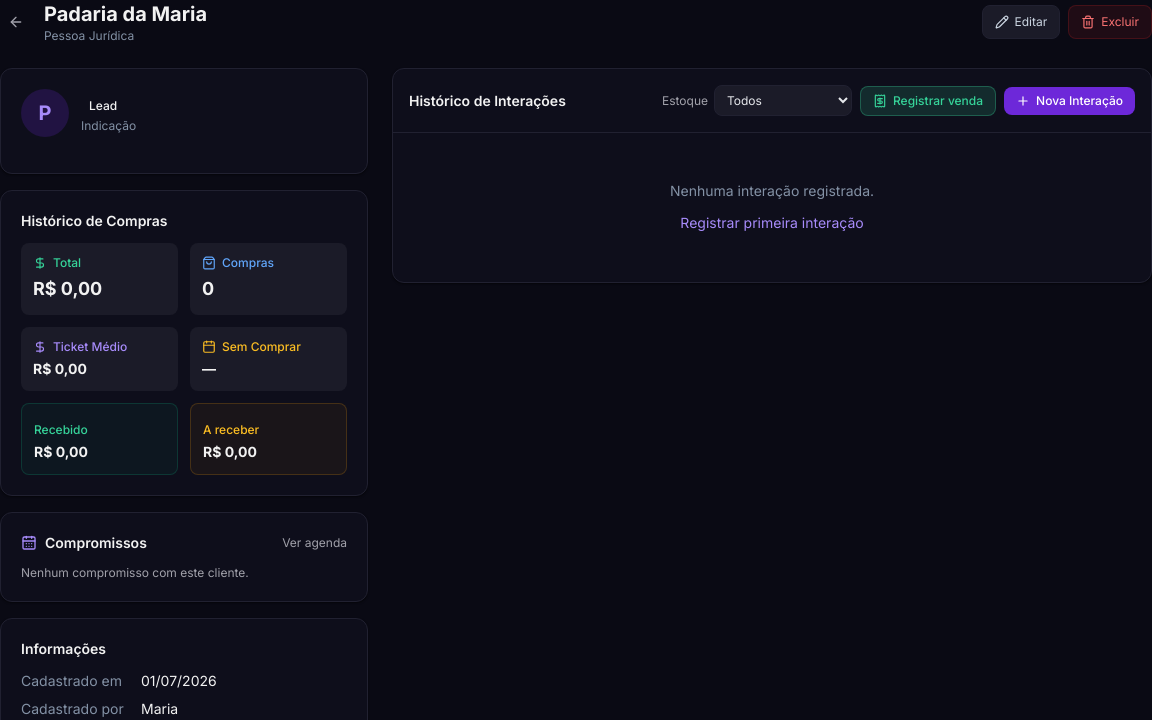
Scenario: Atalho de venda no perfil do cliente › abre o formulário de VENDA, não o de interação
Click the button "Registrar venda" at {"x": 928, "y": 100}, box [860, 86, 996, 116]
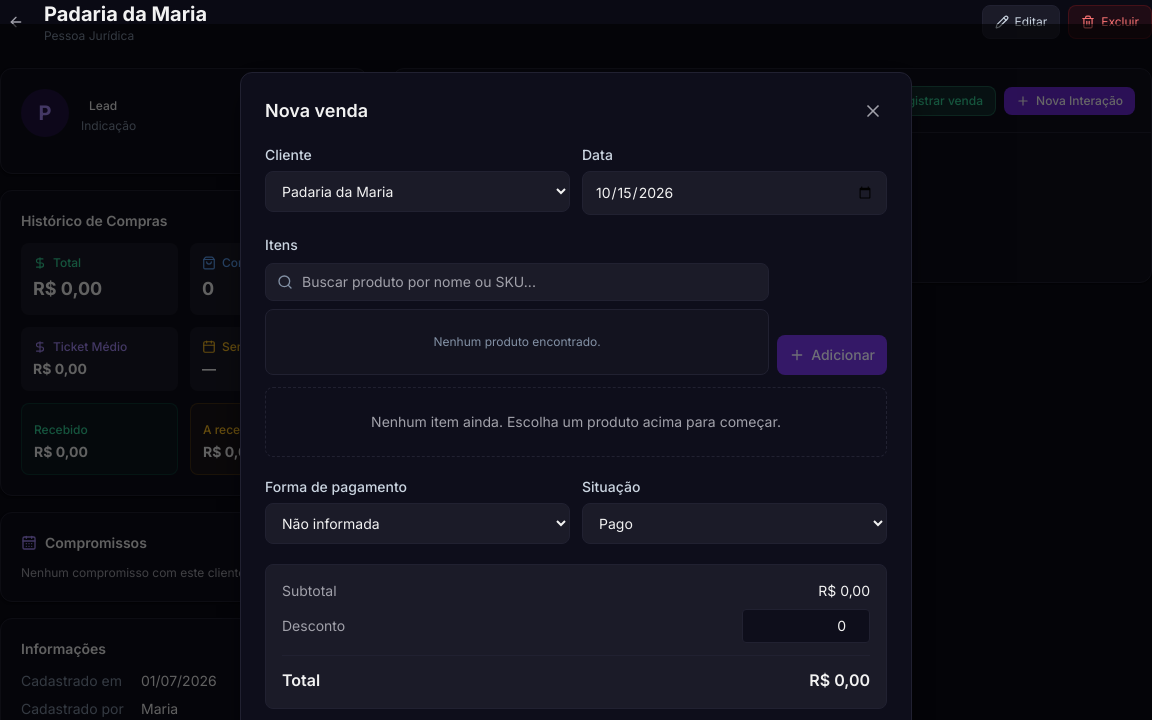
Check: the heading "Nova venda" is shown, box [265, 97, 368, 125]
